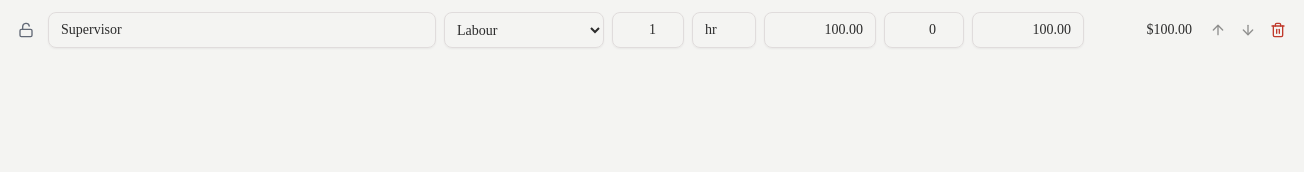
Test case: typing a unit sell derives the markup % from the cost
The width and height of the screenshot is (1304, 172).
Replace the text in the field named "Unit sell" with "180" at (1028, 30), box [972,12,1084,48]
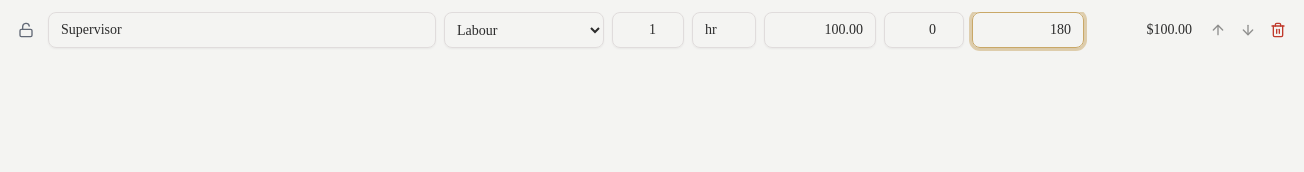
Press Tab
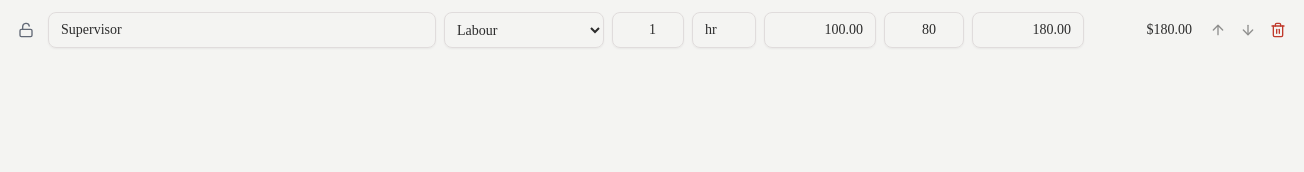
Check: the number field named "Markup %" holds "80", box [884,12,964,48]
